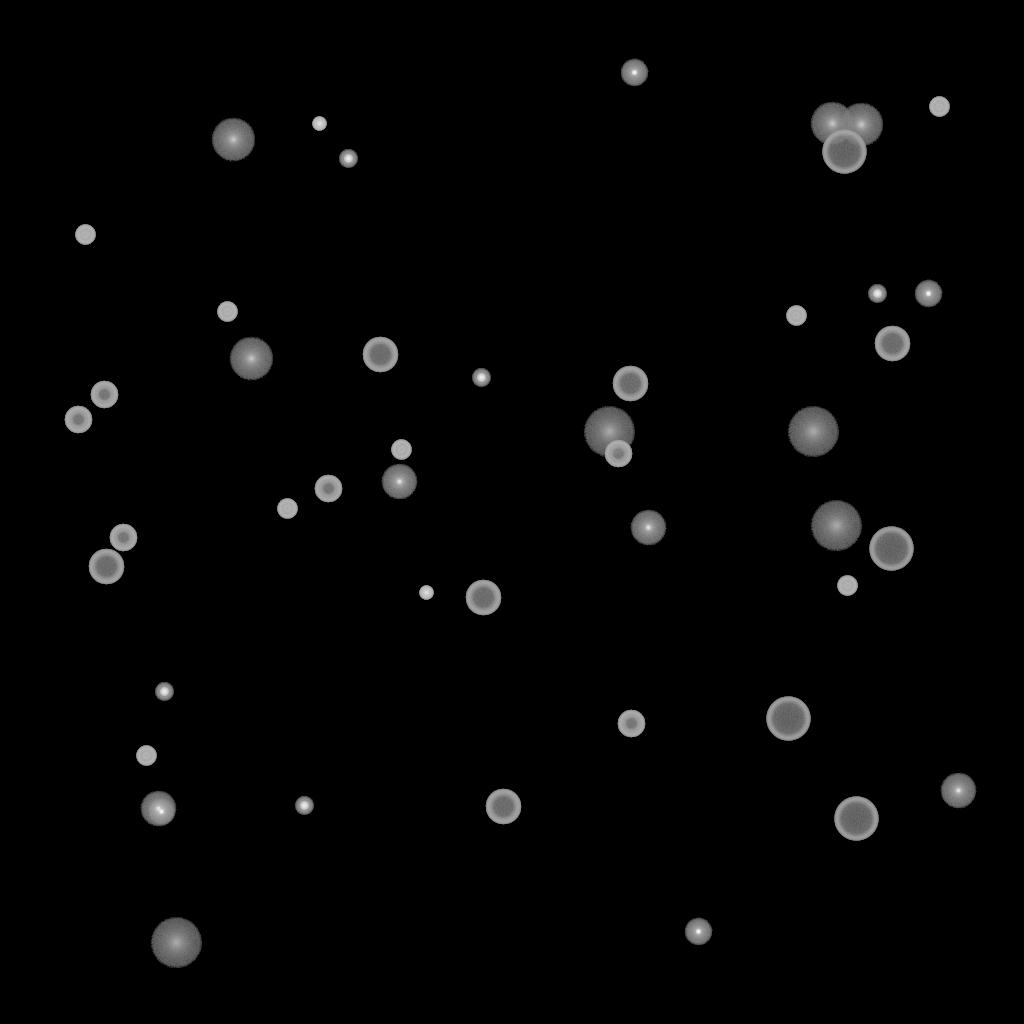depth:-10: (620, 59, 648, 87), (914, 280, 942, 308), (147, 798, 175, 826), (684, 918, 712, 946)
depth:-20: (339, 150, 357, 168), (155, 683, 173, 701), (472, 369, 490, 387), (868, 285, 886, 303), (295, 797, 313, 815)
depth:-30: (312, 117, 326, 131), (419, 586, 433, 600)
depth:-40: (75, 225, 95, 245), (929, 97, 949, 117), (277, 499, 297, 519), (136, 746, 156, 766), (837, 576, 857, 596), (217, 302, 237, 322), (786, 306, 806, 326), (391, 440, 411, 460)
depth:-50: (314, 475, 342, 503), (604, 440, 632, 468), (90, 381, 118, 409), (64, 406, 92, 434), (109, 524, 137, 552), (617, 710, 645, 738)
depth:-60: (485, 789, 521, 825), (88, 549, 124, 585), (612, 366, 648, 402), (874, 326, 910, 362), (362, 337, 398, 373), (465, 580, 501, 616)
depth:-70: (766, 697, 810, 741), (822, 130, 866, 174), (869, 527, 913, 571), (834, 797, 878, 841)
depth:0: (940, 773, 976, 809), (630, 510, 666, 546), (140, 791, 176, 827), (381, 464, 417, 500)
depth:10: (810, 102, 854, 146), (211, 118, 255, 162), (839, 103, 883, 147), (229, 337, 273, 381)
depth:20: (150, 918, 202, 968), (810, 501, 862, 551), (583, 407, 635, 457), (787, 407, 839, 457)
